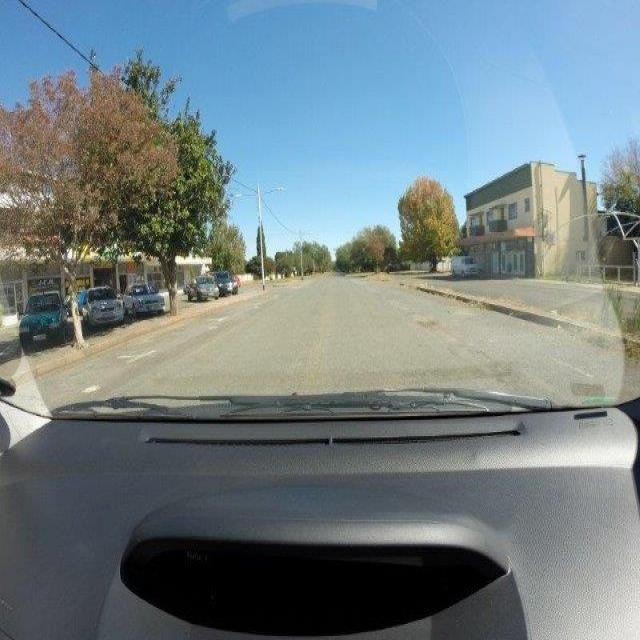lubang: (417, 317, 435, 328)
